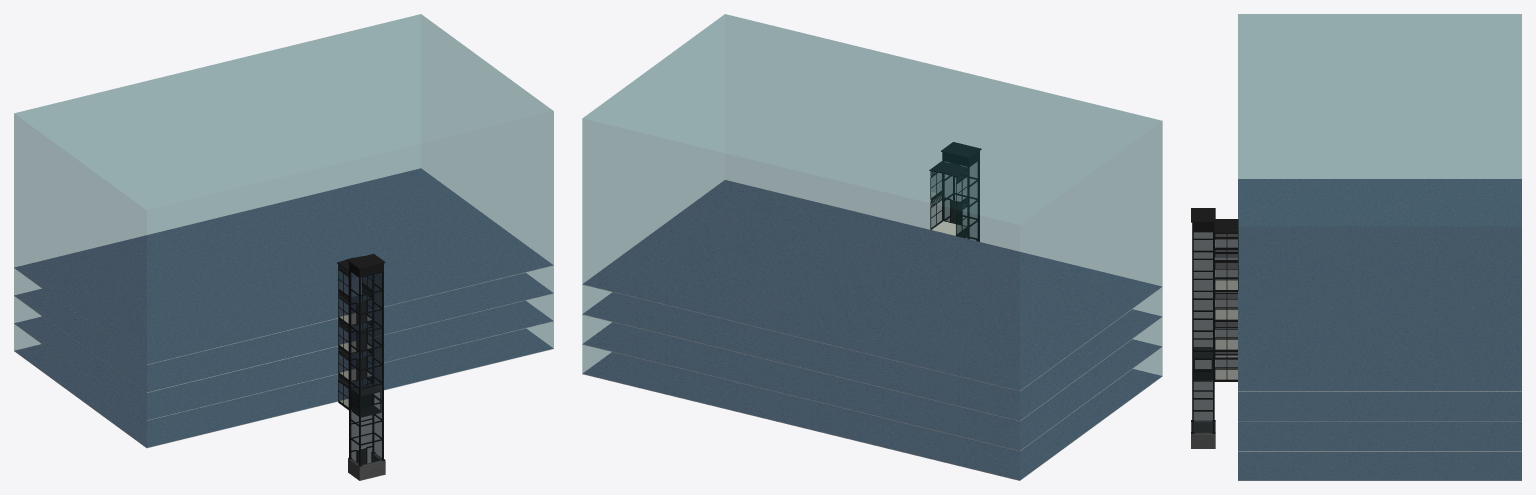
The picture shows the model from 3 angles, left to right: view 1: azimuth 30°, elevation 25°; view 2: azimuth 150°, elevation 25°; view 3: azimuth 270°, elevation 25°; orthographic projection. The views are drawn at different scales.
Parts seen in each view (by area): view 1: 玻璃, ground002, 电梯-玻璃, 建E_model_2023922182530862900, Box004, 建E_model_2023922182530856799; view 2: 玻璃, ground002, Box004, 建E_model_2023922182530862900, 电梯-玻璃; view 3: 玻璃, ground002, 电梯-玻璃, 建E_model_2023922182530862900, Box004, ground001, 建E_model_2023922182530856799.
Boxes of the visible parts, x1,y1,x2,y2 form: 玻璃: (14, 14, 553, 447); ground002: (14, 168, 553, 447); 电梯-玻璃: (339, 270, 383, 465); 建E_model_2023922182530862900: (337, 253, 385, 466); Box004: (14, 265, 553, 448); 建E_model_2023922182530856799: (348, 453, 385, 480); 玻璃: (582, 14, 1162, 479); ground002: (582, 180, 1162, 480); Box004: (582, 284, 1162, 480); 建E_model_2023922182530862900: (929, 142, 981, 241); 电梯-玻璃: (931, 160, 978, 241); 玻璃: (1238, 14, 1521, 480); ground002: (1238, 179, 1521, 480); 电梯-玻璃: (1192, 231, 1237, 433); 建E_model_2023922182530862900: (1191, 208, 1238, 433); Box004: (1238, 391, 1521, 480); ground001: (1215, 279, 1237, 379); 建E_model_2023922182530856799: (1191, 421, 1215, 448).
Size of what is drawn, in the model's own units: 91.8 by 65 by 60.43.
43 materials, 2 textured.
